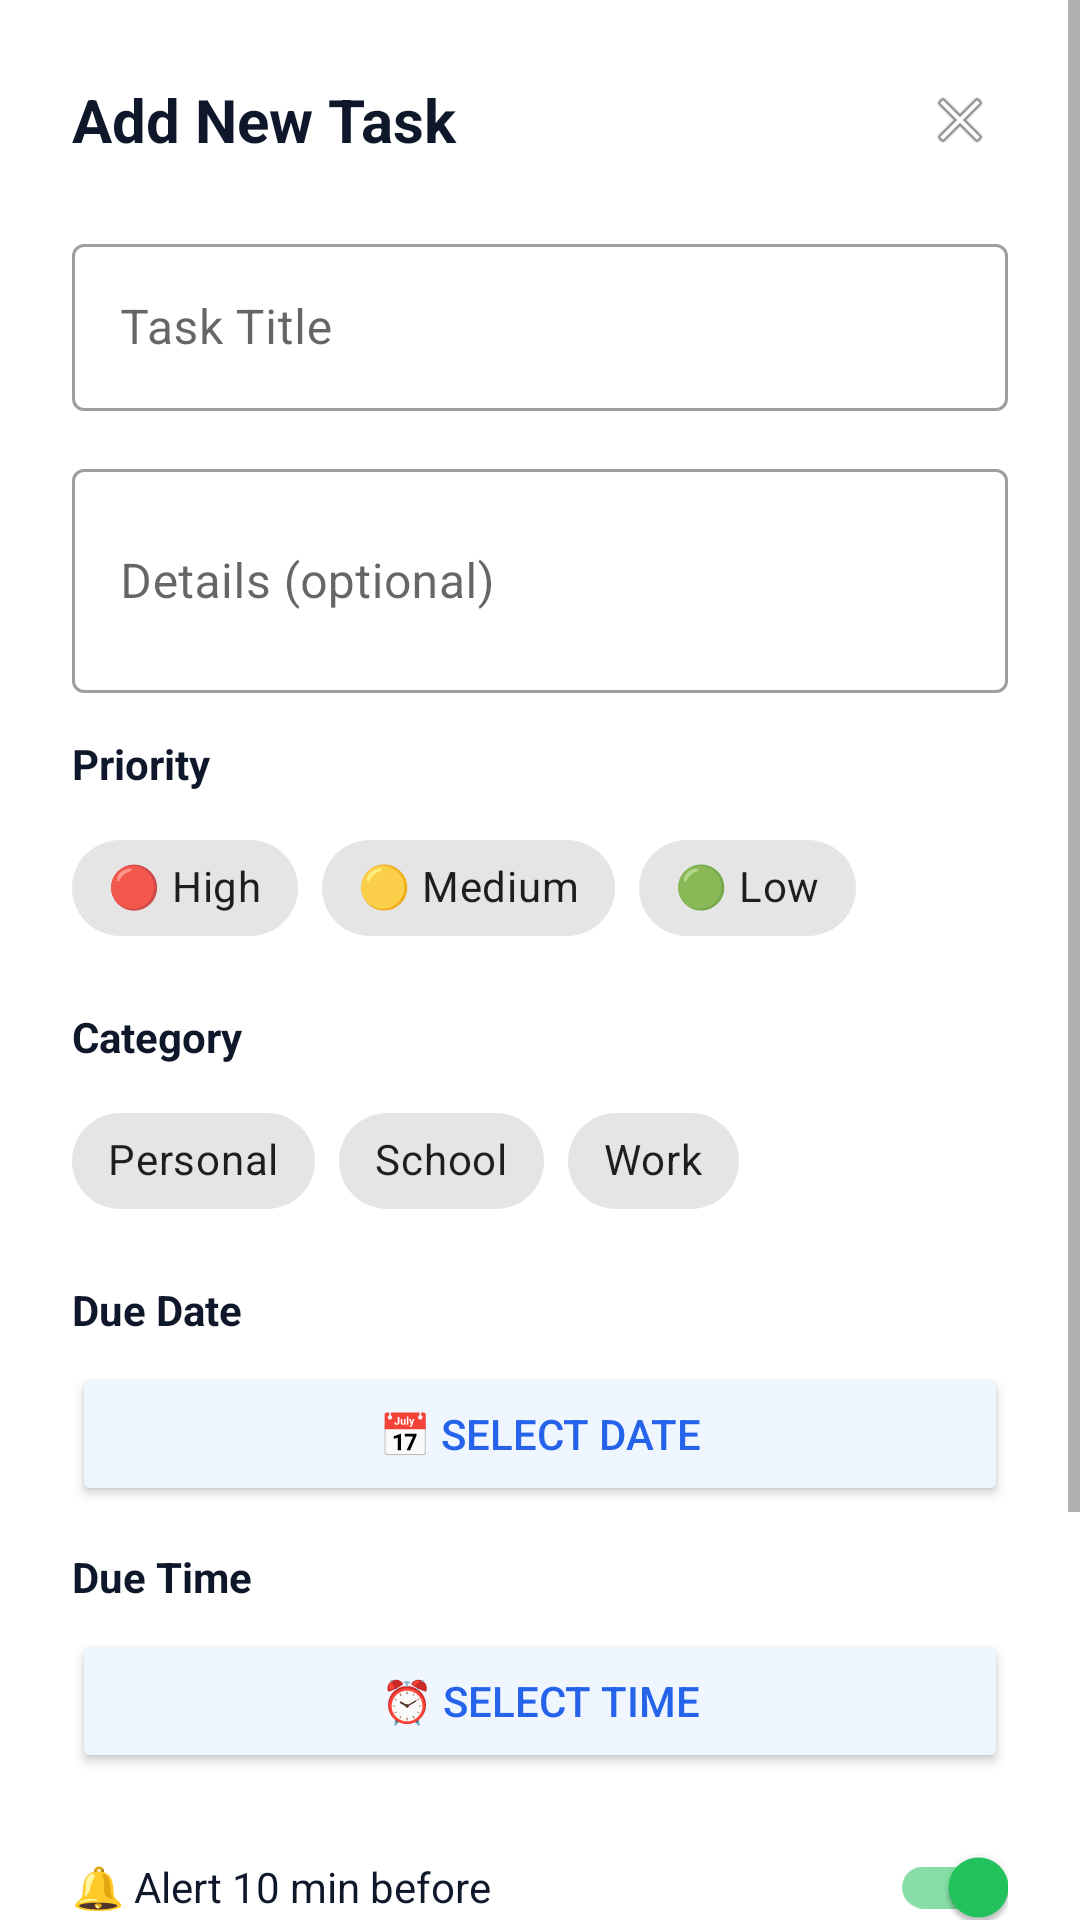

Named icons in this screenshot (1080w x 1920h) and their bounding boxes, (x1, y1, x2, y2):
Close: (937, 97, 983, 143)
